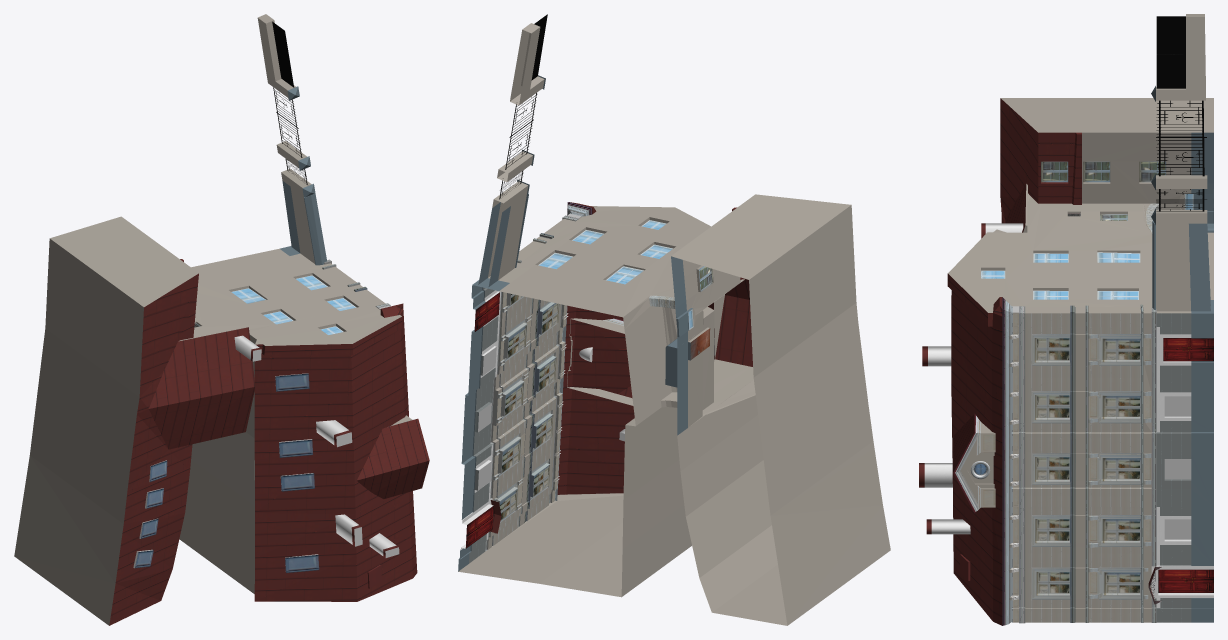
Rendered from Vana_Viru_9.obj.
3 views of the same model, side by side, from view 1: azimuth 30°, elevation 25°; view 2: azimuth 150°, elevation 25°; view 3: azimuth 270°, elevation 25° (orthographic). The views are drawn at different scales.
Visible parts, largest first — view 1: Vana_Viru_9; view 2: Vana_Viru_9; view 3: Vana_Viru_9.
Boxes of the visible parts, box(x1,y1,x2,y2) form: Vana_Viru_9: box(14, 14, 429, 625); Vana_Viru_9: box(458, 14, 890, 625); Vana_Viru_9: box(919, 14, 1213, 625).
Bounding box in the file's own units: 20.49 × 32.15 × 14.93.
